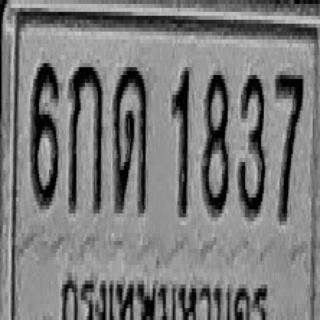A01: (68, 59, 102, 213)
A20: (113, 63, 148, 213)
N01: (171, 65, 190, 215)
N03: (238, 71, 265, 217)
N06: (31, 59, 58, 205)
N07: (275, 71, 303, 221)
N08: (202, 69, 229, 215)
